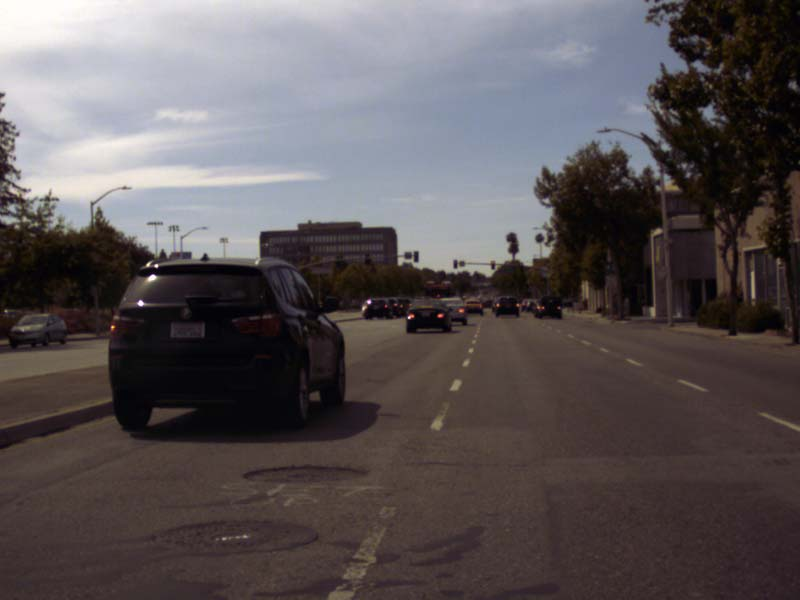Red: (414, 251, 417, 261), (453, 260, 456, 268), (519, 263, 522, 271), (491, 261, 494, 268)
